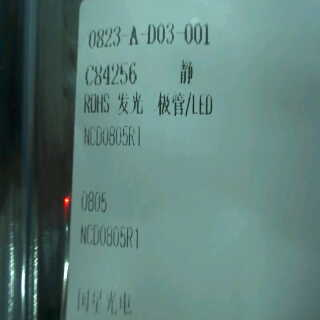LED: (115, 87, 220, 120)
